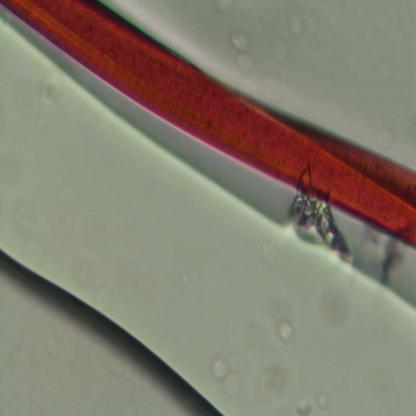Air bubble: (0, 251, 226, 416)
Background material: (288, 191, 348, 261), (255, 358, 300, 399), (314, 287, 356, 326), (228, 25, 255, 75), (34, 66, 70, 103), (282, 4, 321, 35), (13, 195, 48, 229), (294, 388, 332, 412), (273, 318, 296, 346), (210, 356, 230, 385), (259, 242, 277, 273)
Microfibre: (0, 0, 416, 248)
